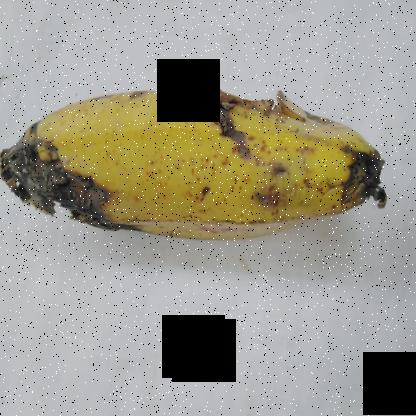rotten: (0, 108, 153, 265), (140, 34, 314, 171), (248, 148, 404, 264)
